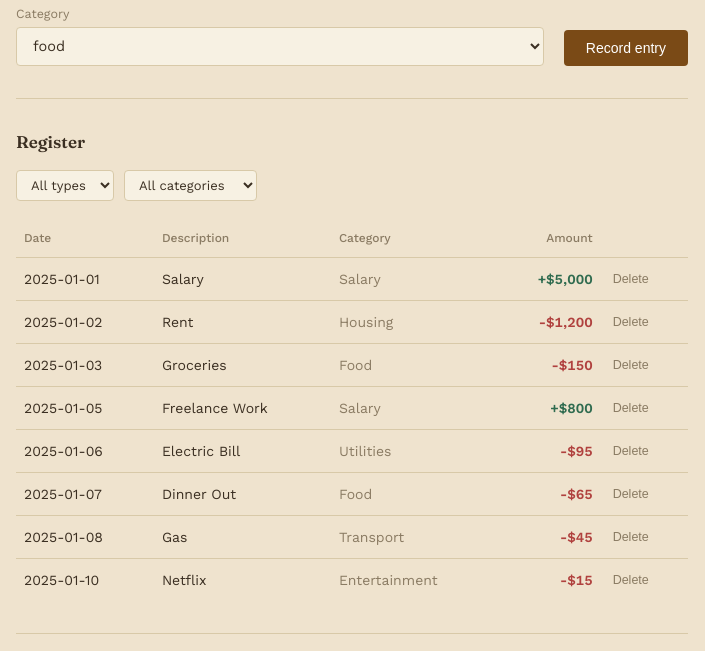
it: App › deleting a transaction › removes the row from the table
(page scrolled)
Expected: the text "Rent" is shown, [154,300,331,344]
Click the button "Delete" in the row of "2025-01-02": (631, 322) [609,313,653,331]
(page scrolled)
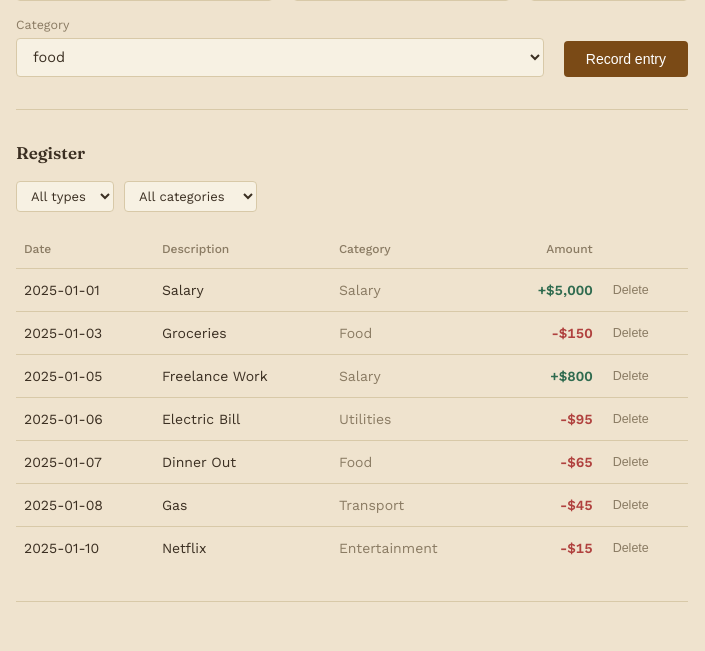
Result: the text "Rent" is gone
